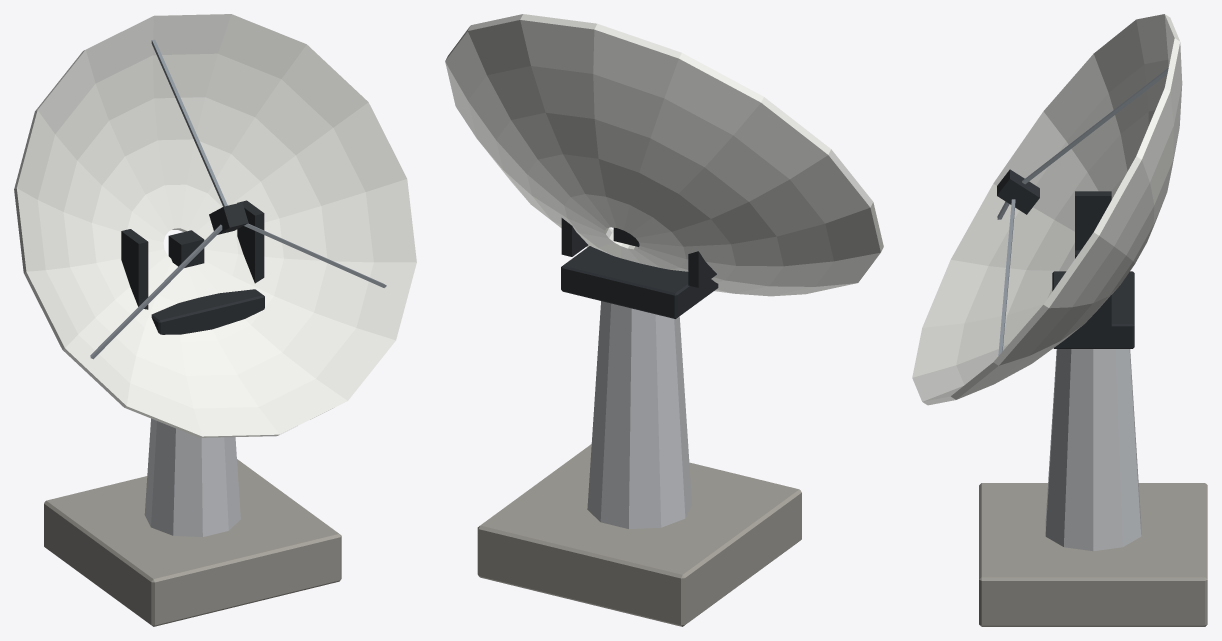
Rendered from Scenery_RadarDish.fbx.
The picture shows the model from 3 angles, left to right: view 1: azimuth 30°, elevation 25°; view 2: azimuth 150°, elevation 25°; view 3: azimuth 270°, elevation 25°; orthographic projection. The views are drawn at different scales.
Parts seen in each view (by area): view 1: Scenery_RadarDish; view 2: Scenery_RadarDish; view 3: Scenery_RadarDish.
Part boxes in pixels (x1,y1,x2,y2): Scenery_RadarDish: (14, 14, 416, 626); Scenery_RadarDish: (445, 14, 883, 626); Scenery_RadarDish: (912, 14, 1207, 626).
Bounding box in the file's own units: 10 × 13.06 × 6.46.
